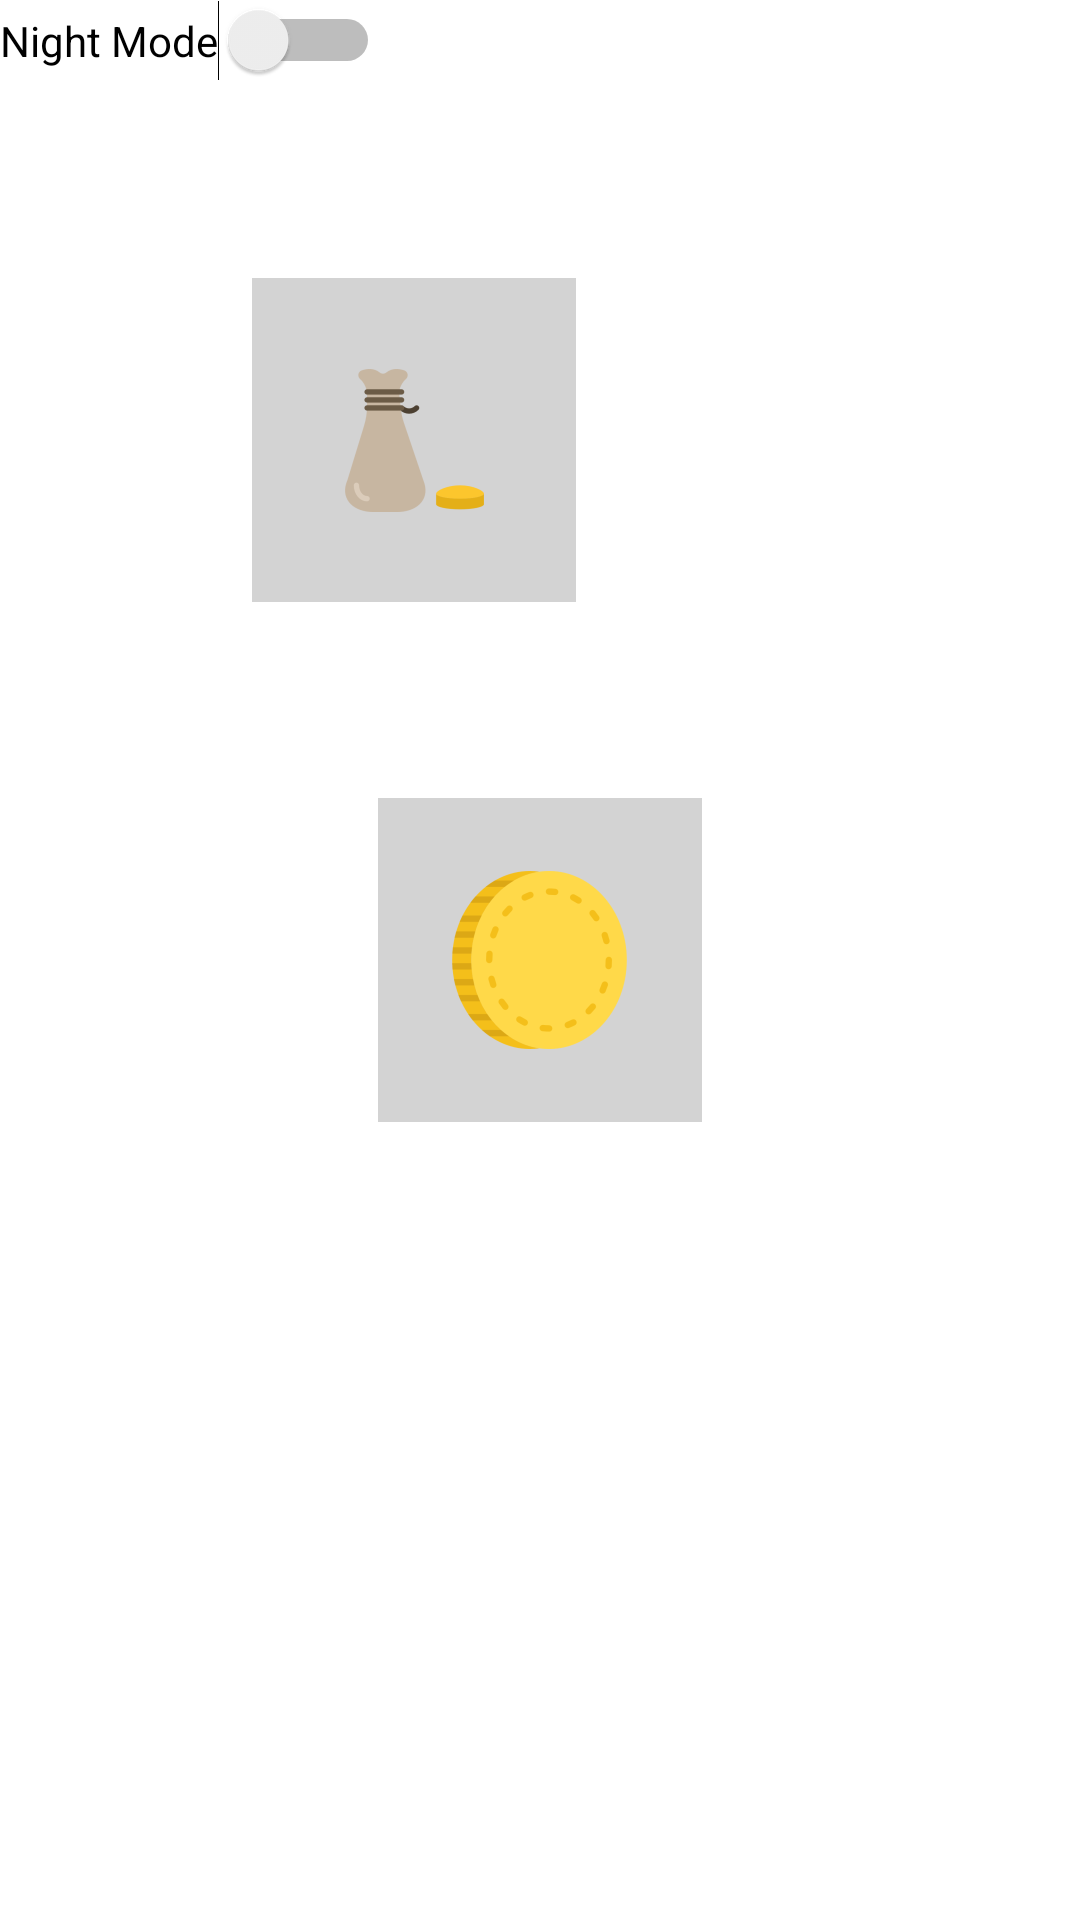

Named icons in this screenshot (1080*1920) and their centers, (x=x, y=y):
coin: (x=540, y=960)
